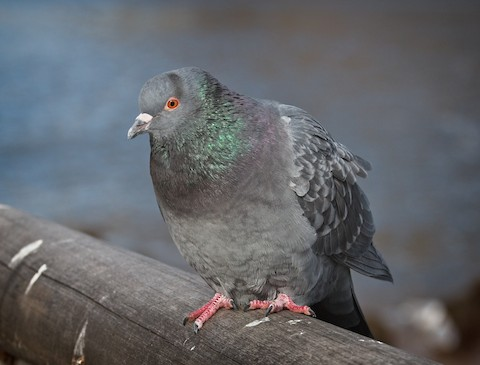pigeon: (122, 62, 383, 335)
